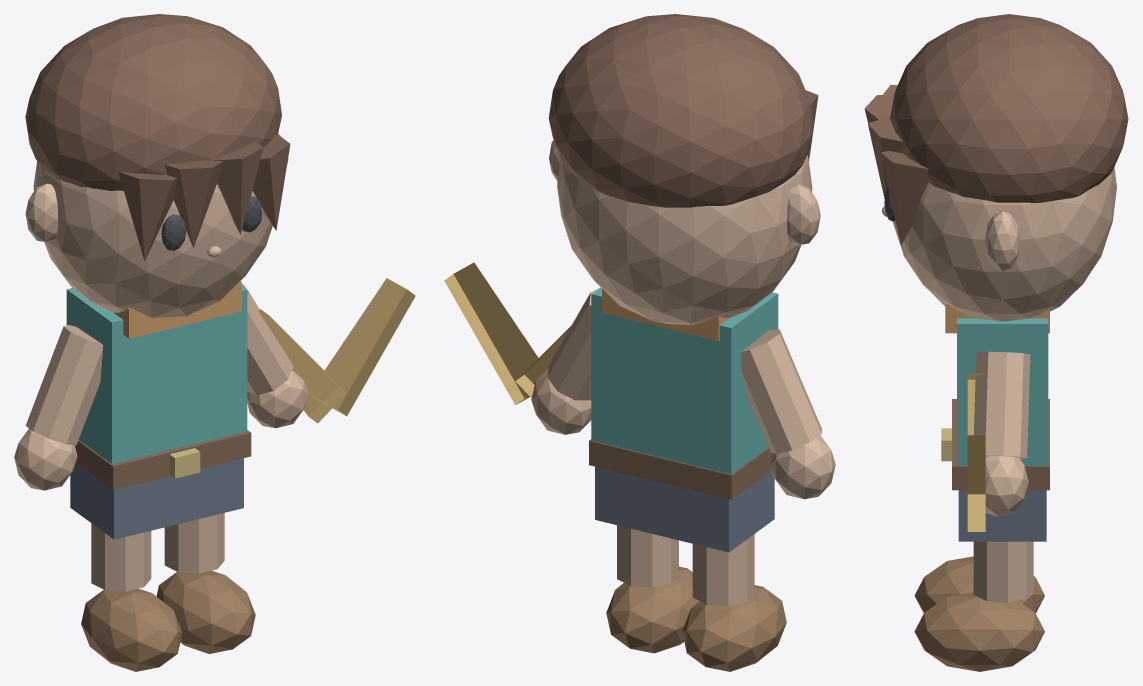
File: BoomTheRang_ChibiBoy.glb
3 renders of one model, left to right at view 1: azimuth 30°, elevation 25°; view 2: azimuth 150°, elevation 25°; view 3: azimuth 270°, elevation 25°, orthographic. The views are drawn at different scales.
Parts seen in each view (by area): view 1: Hair_Cap, Torso, Head, Shorts, Boomerang, Boot_L, Arm_L, Boot_R, Belt, Leg_L, Leg_R, Hair_Bang_1 (+10 smaller); view 2: Hair_Cap, Head, Torso, Shorts, Arm_L, Boot_L, Boomerang, Boot_R, Belt, Leg_L, Leg_R, Arm_R (+4 smaller); view 3: Hair_Cap, Head, Boot_R, Torso, Arm_R, Leg_R, Shorts, Hair_Bang_4, Boot_L, Boomerang, Hand_R, Ear_R (+4 smaller).
Boxes of the visible parts, <box> form: Hair_Cap: <box>25,14,281,190</box>; Torso: <box>66,286,247,464</box>; Head: <box>33,161,272,317</box>; Shorts: <box>70,458,243,539</box>; Boomerang: <box>258,278,415,423</box>; Boot_L: <box>81,588,182,671</box>; Arm_L: <box>25,325,103,445</box>; Boot_R: <box>156,570,255,653</box>; Belt: <box>75,430,251,489</box>; Leg_L: <box>91,523,151,591</box>; Leg_R: <box>164,513,224,573</box>; Hair_Bang_1: <box>118,171,177,260</box>; Hair_Cap: <box>548,14,813,207</box>; Head: <box>557,155,812,324</box>; Torso: <box>591,287,778,474</box>; Shorts: <box>595,466,774,552</box>; Arm_L: <box>741,329,822,453</box>; Boot_L: <box>682,585,786,671</box>; Boomerang: <box>444,262,571,404</box>; Boot_R: <box>606,566,699,653</box>; Belt: <box>589,439,772,499</box>; Leg_L: <box>692,534,754,605</box>; Leg_R: <box>617,525,678,587</box>; Arm_R: <box>547,288,598,400</box>; Hair_Cap: <box>890,14,1128,202</box>; Head: <box>892,167,1116,321</box>; Boot_R: <box>914,592,1044,671</box>; Torso: <box>957,318,1048,465</box>; Arm_R: <box>973,351,1030,458</box>; Leg_R: <box>973,541,1033,602</box>; Shorts: <box>958,490,1046,541</box>; Hair_Bang_4: <box>881,151,928,244</box>; Boot_L: <box>914,556,1044,613</box>; Boomerang: <box>967,373,985,531</box>; Hand_R: <box>985,456,1028,516</box>; Ear_R: <box>984,211,1020,271</box>.
Size of the model in its own units: 1.36 by 2.09 by 0.8078.
